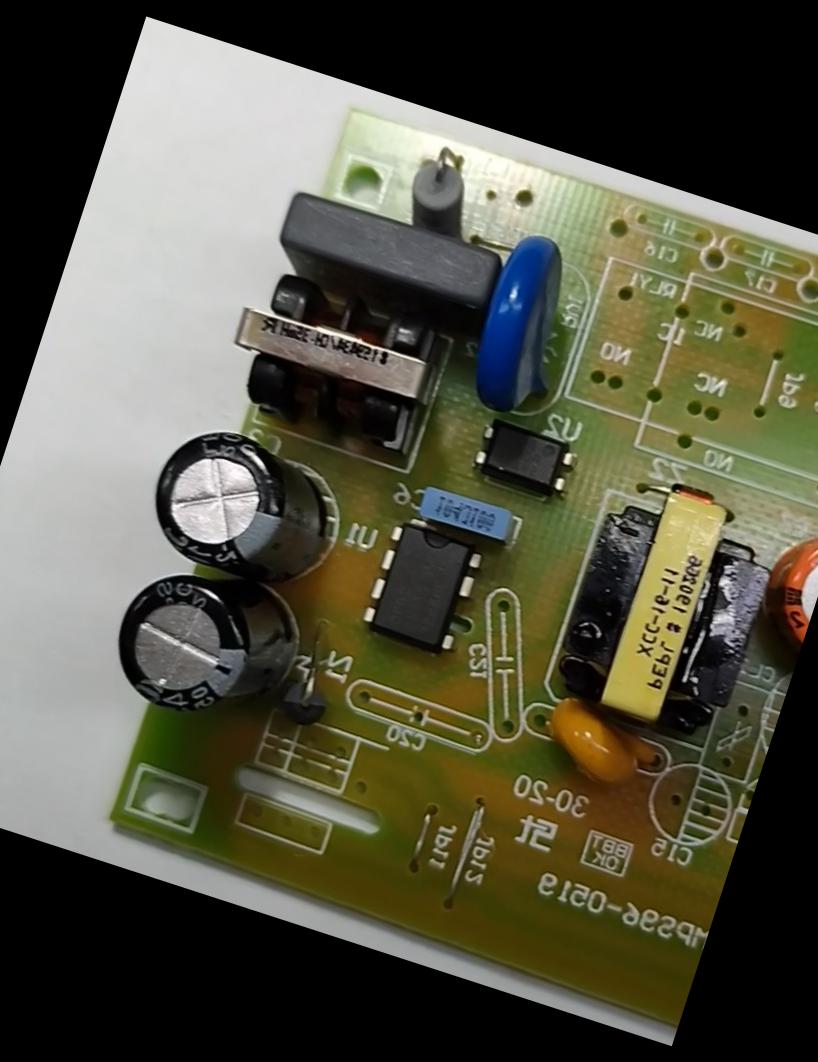Cap1: (738, 493, 817, 678)
Cap3: (127, 406, 374, 606)
Cap4: (86, 541, 330, 758)
MOSFET: (338, 497, 508, 673)
Mov: (450, 216, 600, 429)
Resistor: (384, 131, 504, 244)
Transformer: (521, 443, 811, 770), (200, 244, 467, 480)
